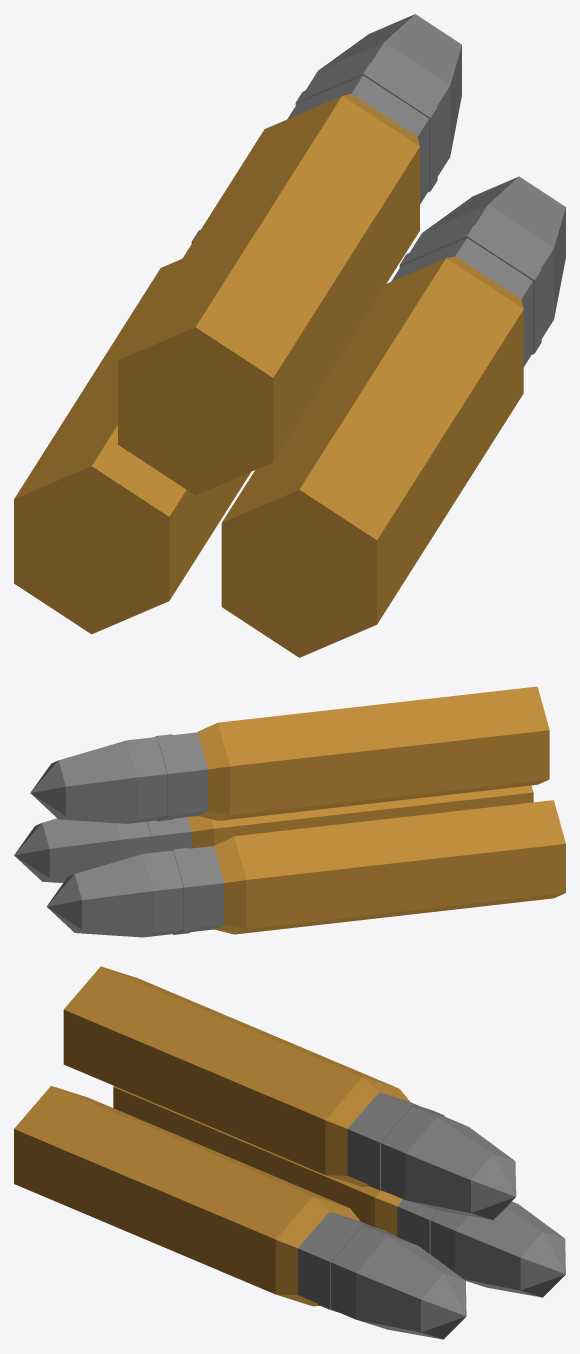
The model's file is ce_ammo_heavy_apcr_b.obj.
The picture shows the model from 3 angles, top to bottom: view 1: azimuth 30°, elevation 25°; view 2: azimuth 150°, elevation 25°; view 3: azimuth 270°, elevation 25°; orthographic projection. The views are drawn at different scales.
Visible parts, largest first — view 1: ce_ammo_heavy_apcr_b_14, ce_ammo_heavy_apcr_b_7, ce_ammo_heavy_apcr_b_0, ce_ammo_heavy_apcr_b_19, ce_ammo_heavy_apcr_b_12, ce_ammo_heavy_apcr_b_18, ce_ammo_heavy_apcr_b_11, ce_ammo_heavy_apcr_b_16, ce_ammo_heavy_apcr_b_9, ce_ammo_heavy_apcr_b_10, ce_ammo_heavy_apcr_b_17; view 2: ce_ammo_heavy_apcr_b_14, ce_ammo_heavy_apcr_b_0, ce_ammo_heavy_apcr_b_7, ce_ammo_heavy_apcr_b_5, ce_ammo_heavy_apcr_b_19, ce_ammo_heavy_apcr_b_12, ce_ammo_heavy_apcr_b_18, ce_ammo_heavy_apcr_b_4, ce_ammo_heavy_apcr_b_1, ce_ammo_heavy_apcr_b_2, ce_ammo_heavy_apcr_b_15, ce_ammo_heavy_apcr_b_16 (+9 smaller); view 3: ce_ammo_heavy_apcr_b_14, ce_ammo_heavy_apcr_b_7, ce_ammo_heavy_apcr_b_0, ce_ammo_heavy_apcr_b_19, ce_ammo_heavy_apcr_b_12, ce_ammo_heavy_apcr_b_5, ce_ammo_heavy_apcr_b_8, ce_ammo_heavy_apcr_b_15, ce_ammo_heavy_apcr_b_18, ce_ammo_heavy_apcr_b_11, ce_ammo_heavy_apcr_b_6, ce_ammo_heavy_apcr_b_13 (+9 smaller).
Boxes of the visible parts, box(x1,y1,x2,y2) form: ce_ammo_heavy_apcr_b_14: box(118, 96, 419, 495); ce_ammo_heavy_apcr_b_7: box(221, 258, 523, 657); ce_ammo_heavy_apcr_b_0: box(14, 259, 250, 634); ce_ammo_heavy_apcr_b_19: box(318, 14, 461, 155); ce_ammo_heavy_apcr_b_12: box(422, 176, 565, 318); ce_ammo_heavy_apcr_b_18: box(306, 42, 450, 176); ce_ammo_heavy_apcr_b_11: box(410, 205, 553, 338); ce_ammo_heavy_apcr_b_16: box(287, 75, 429, 204); ce_ammo_heavy_apcr_b_9: box(391, 238, 532, 366); ce_ammo_heavy_apcr_b_10: box(399, 225, 541, 354); ce_ammo_heavy_apcr_b_17: box(295, 63, 437, 192); ce_ammo_heavy_apcr_b_14: box(218, 686, 549, 820); ce_ammo_heavy_apcr_b_0: box(234, 800, 565, 934); ce_ammo_heavy_apcr_b_7: box(211, 785, 533, 845); ce_ammo_heavy_apcr_b_5: box(75, 854, 153, 937); ce_ammo_heavy_apcr_b_19: box(58, 740, 136, 823); ce_ammo_heavy_apcr_b_12: box(42, 818, 120, 882); ce_ammo_heavy_apcr_b_18: box(126, 737, 167, 823); ce_ammo_heavy_apcr_b_4: box(143, 850, 183, 937); ce_ammo_heavy_apcr_b_1: box(213, 836, 246, 934); ce_ammo_heavy_apcr_b_2: box(189, 846, 224, 931); ce_ammo_heavy_apcr_b_15: box(197, 723, 229, 820); ce_ammo_heavy_apcr_b_16: box(172, 732, 207, 818); ce_ammo_heavy_apcr_b_14: box(63, 966, 398, 1174); ce_ammo_heavy_apcr_b_7: box(14, 1086, 347, 1294); ce_ammo_heavy_apcr_b_0: box(113, 1086, 380, 1226); ce_ammo_heavy_apcr_b_19: box(405, 1117, 514, 1219); ce_ammo_heavy_apcr_b_12: box(356, 1236, 465, 1339); ce_ammo_heavy_apcr_b_5: box(455, 1202, 564, 1297); ce_ammo_heavy_apcr_b_8: box(275, 1196, 360, 1306); ce_ammo_heavy_apcr_b_15: box(325, 1077, 409, 1186); ce_ammo_heavy_apcr_b_18: box(381, 1106, 467, 1199); ce_ammo_heavy_apcr_b_11: box(331, 1226, 416, 1319); ce_ammo_heavy_apcr_b_6: box(520, 1231, 565, 1297); ce_ammo_heavy_apcr_b_13: box(421, 1273, 466, 1339).
Bounding box in the file's own units: 0.8643 × 0.36 × 0.8643.
